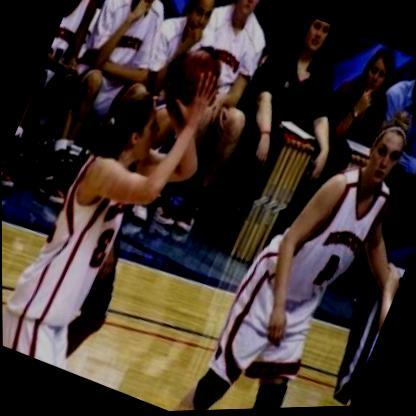basketball: (156, 38, 232, 130)
